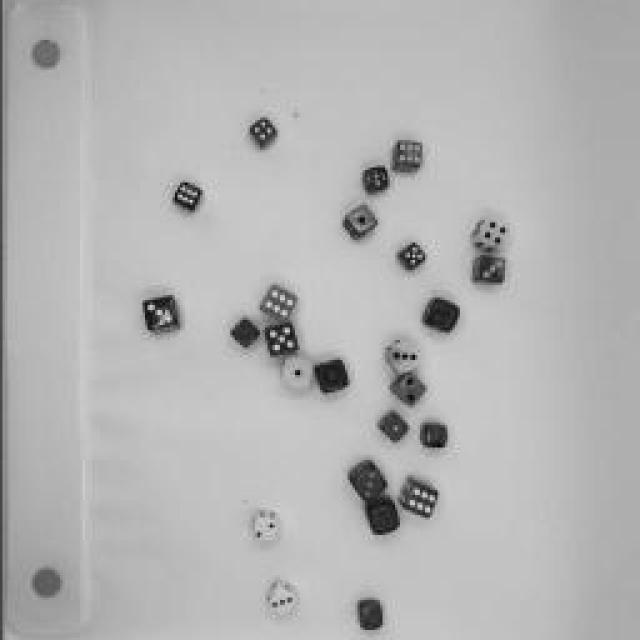dice_1: (340, 200, 378, 242), (276, 352, 314, 392), (314, 358, 346, 398), (375, 410, 410, 442)
dice_2: (138, 296, 178, 336), (390, 372, 428, 406), (352, 598, 382, 632), (249, 512, 279, 542)
dice_3: (382, 332, 418, 372), (349, 462, 389, 498), (262, 583, 298, 615)
dice_4: (410, 295, 460, 337), (469, 213, 509, 255), (361, 500, 399, 540), (242, 120, 282, 155), (419, 420, 449, 450)
dice_5: (262, 322, 298, 358), (226, 320, 259, 350), (398, 240, 428, 272)
dice_6: (399, 478, 436, 518), (258, 286, 298, 319), (390, 140, 422, 175), (171, 181, 201, 214), (358, 165, 390, 195)
